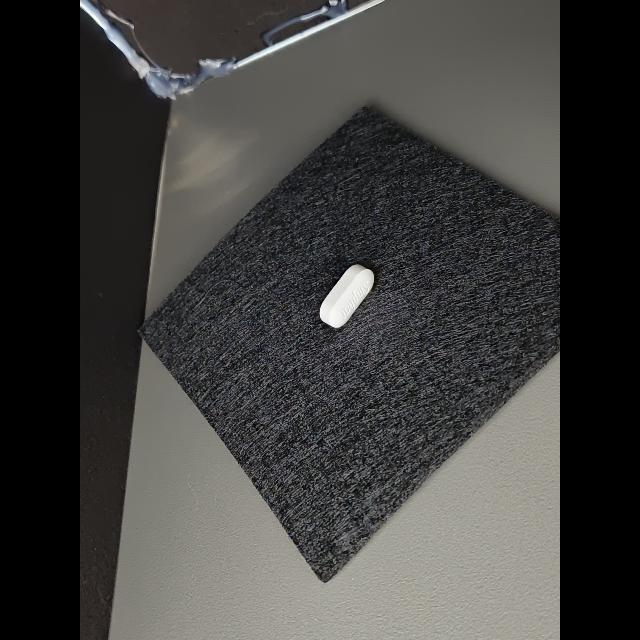Intact Pill: (320, 264, 374, 328)
